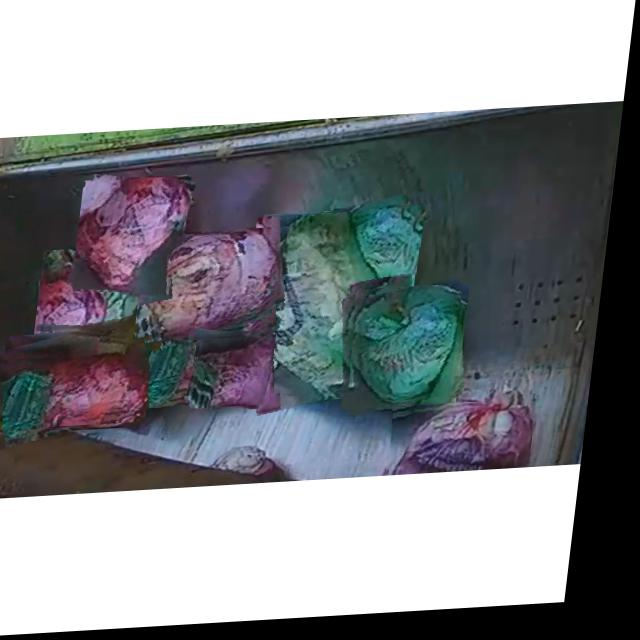general_trashbag: (257, 217, 425, 401), (359, 292, 469, 412), (49, 250, 145, 336), (105, 331, 201, 414)
other_trashbag: (148, 233, 287, 344), (82, 181, 193, 296), (5, 357, 159, 428), (403, 408, 544, 480), (208, 340, 284, 410)
